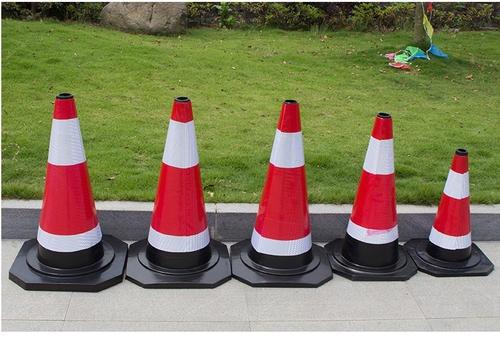cone_barrel: (27, 97, 111, 272), (138, 94, 219, 273), (244, 103, 320, 274), (336, 115, 406, 267), (421, 147, 478, 267)
